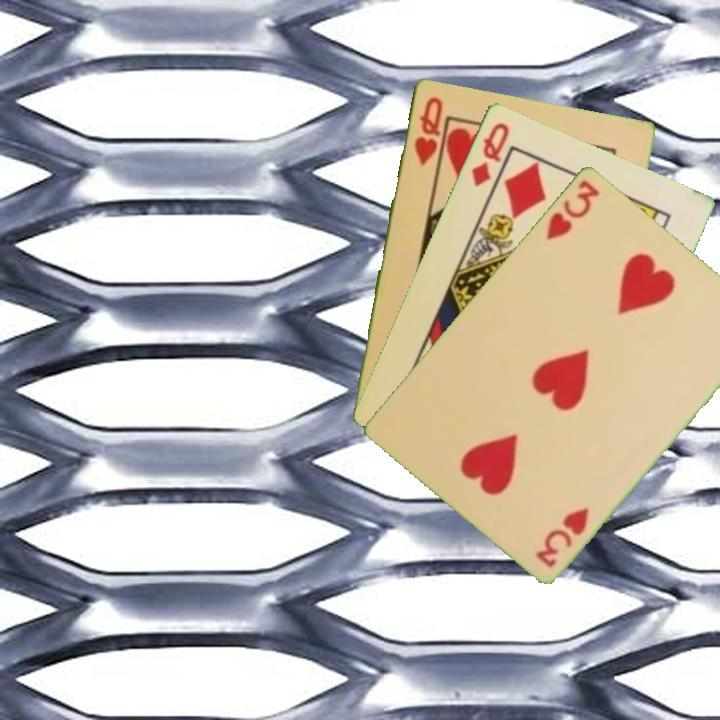3h: (542, 175, 602, 243), (532, 503, 592, 570)
Qd: (467, 118, 512, 189)
Qh: (410, 92, 445, 169)
